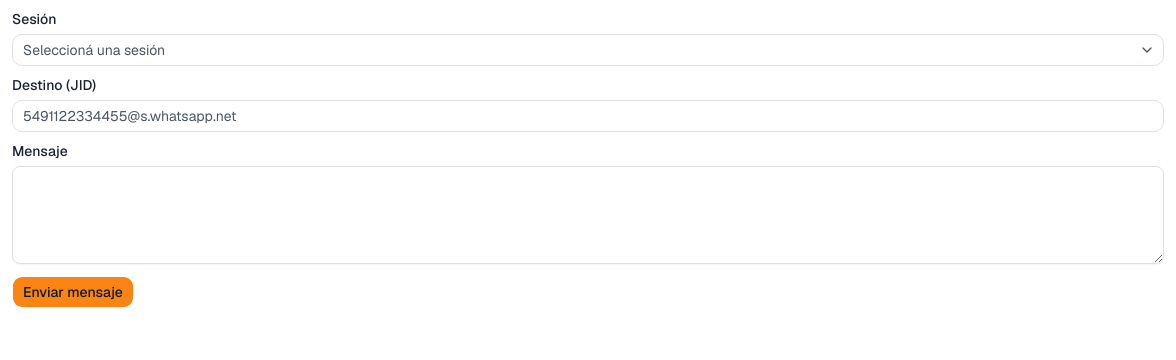
Test case: SendMessageForm › requires a session, a valid JID and non-empty text before submitting
This screenshot has width=1176, height=360.
Click the dropdown labelled "Seleccioná una sesión ▼" at (94, 50), box [12,34,1164,66]
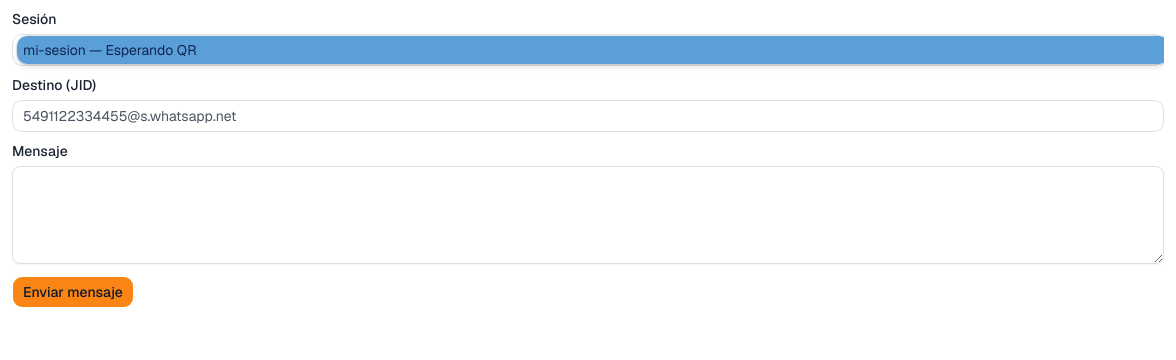
Click the option "mi-sesion — Esperando QR" at (54, 50), box [17,36,1164,64]
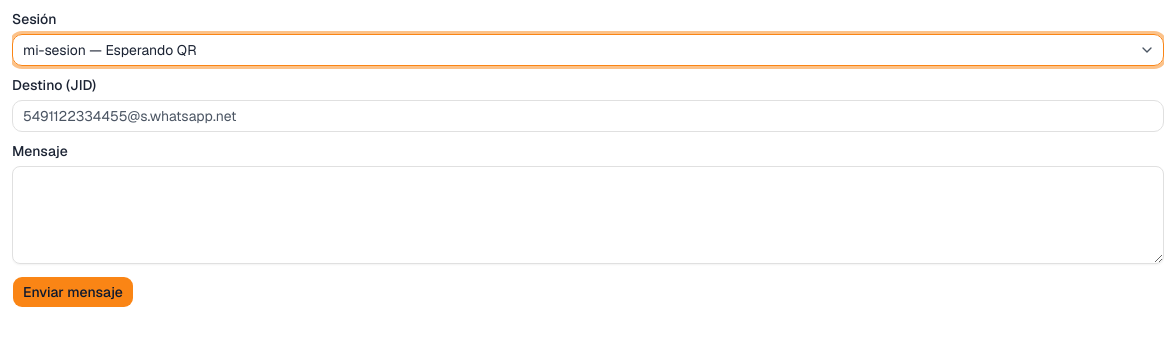
Type "not-a-jid" into the field labelled "Destino (JID)" at (588, 116), box [12,100,1164,132]
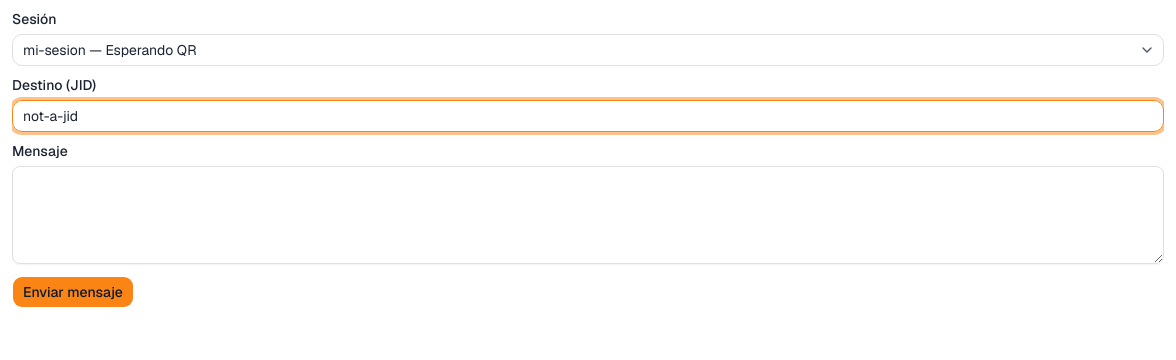
Type "Hola" into the text box labelled "Mensaje" at (588, 215), box [12,166,1164,264]
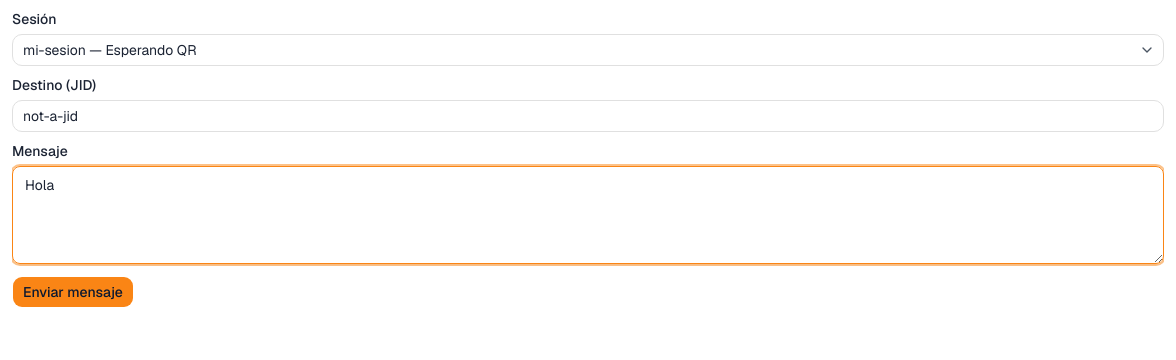
Click the button "Enviar mensaje" at (73, 292), box [12,276,134,308]
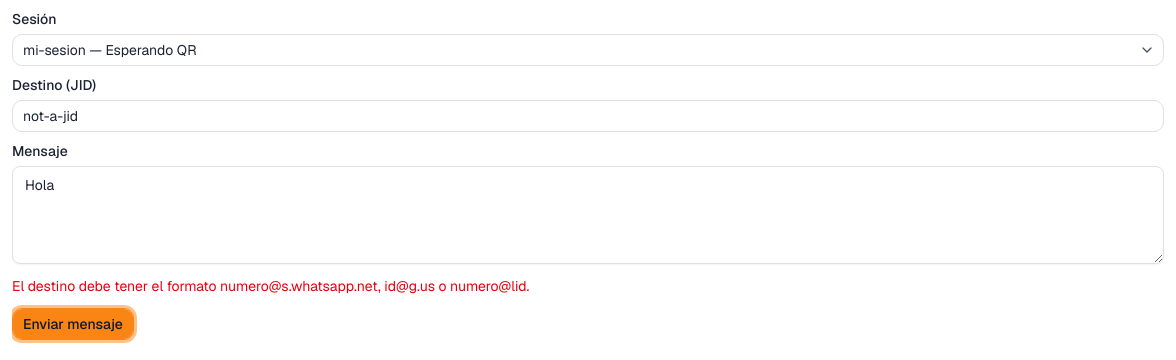
expect the message shows "s.whatsapp.net": met, box [12,277,529,295]
